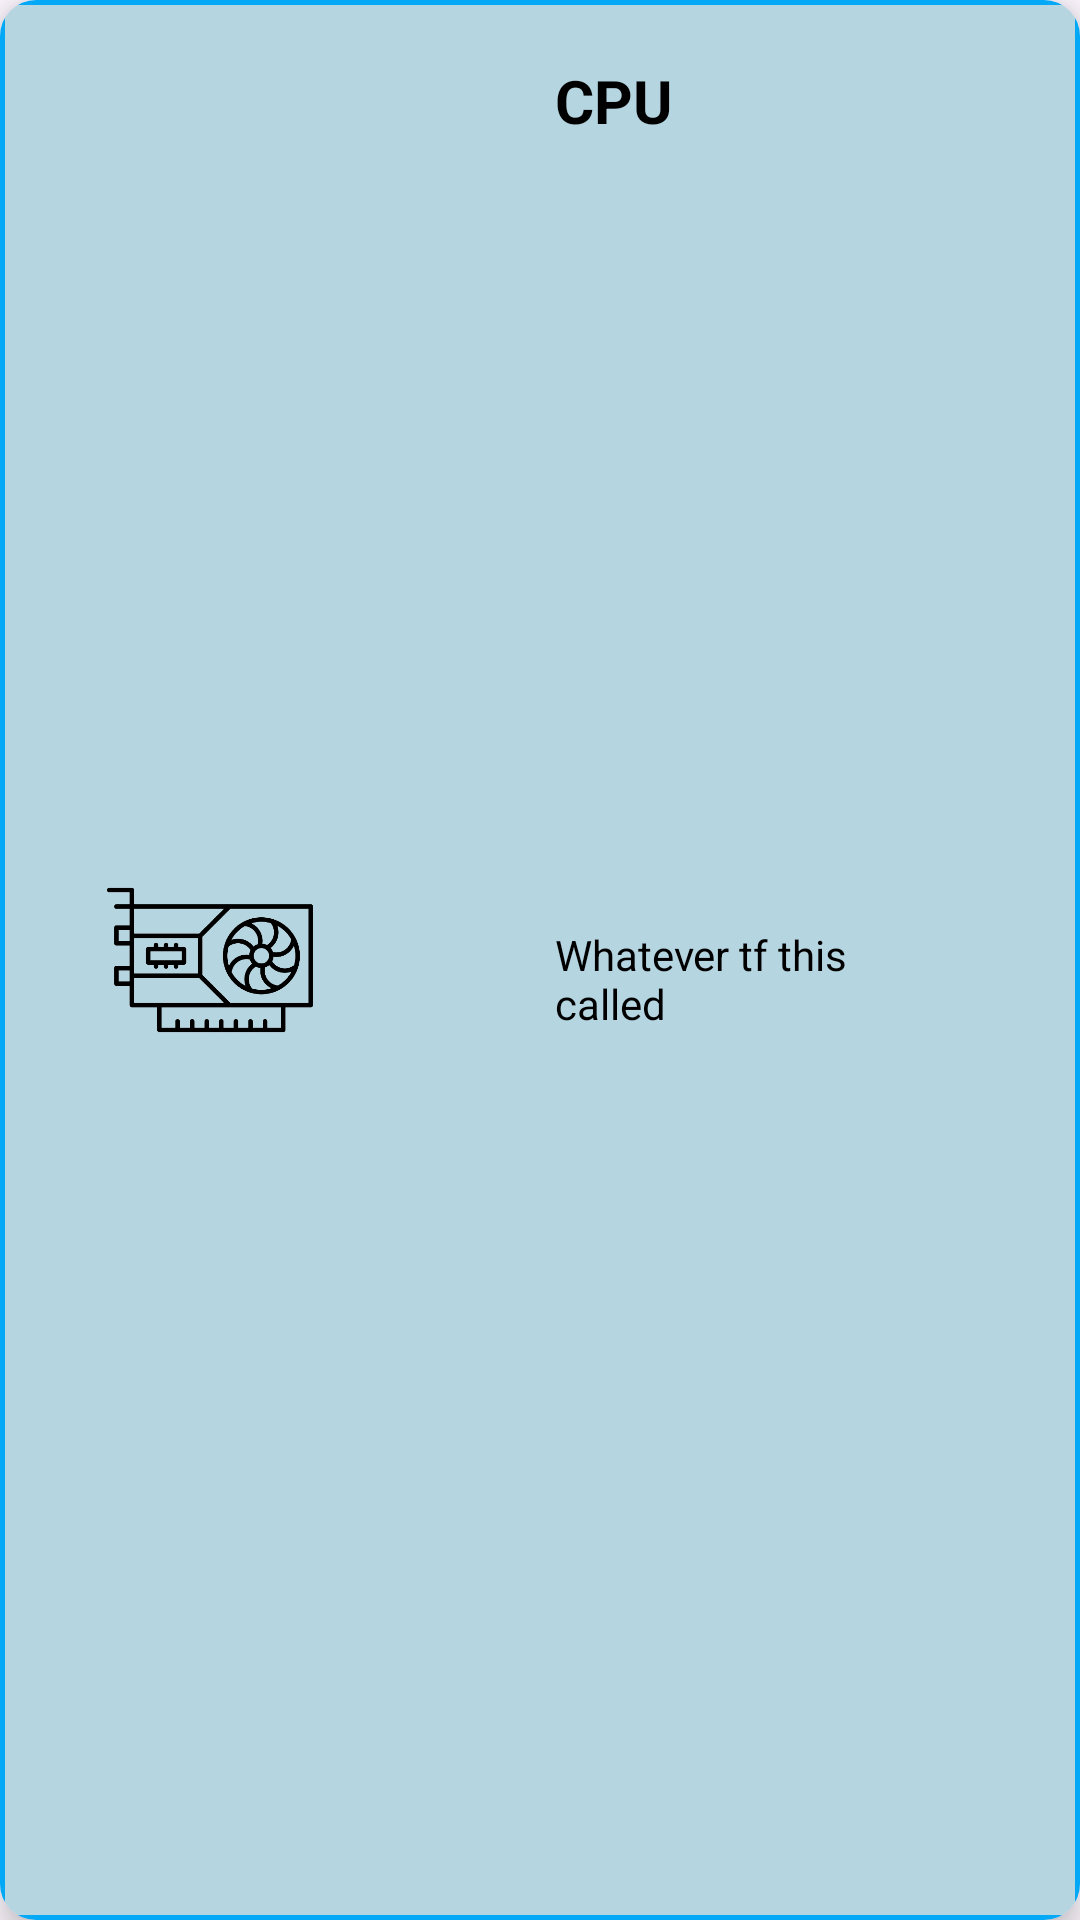

Icon click points for this 1080*1920 phone screenshot, format (x,y):
graphicscard: (210,960)
